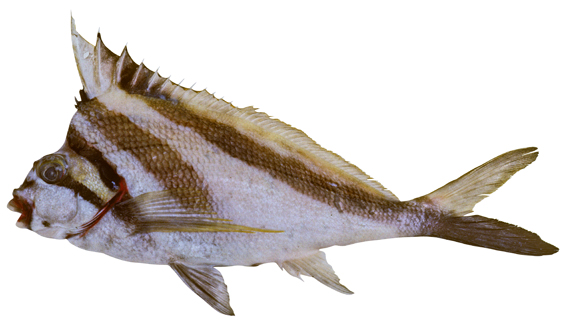fish: (8, 13, 560, 317)
